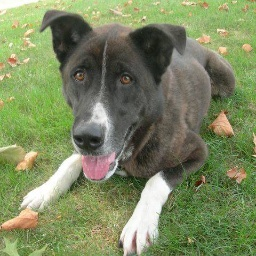dog: (11, 9, 240, 250)
